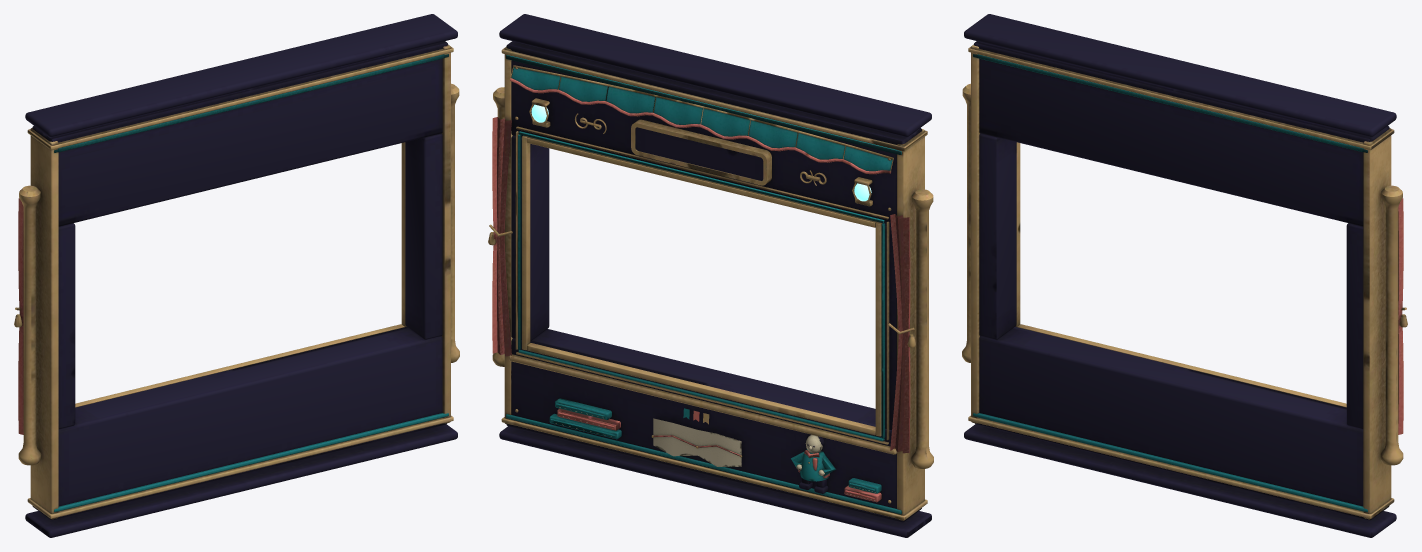
3 views of the same model, side by side, from view 1: azimuth 30°, elevation 25°; view 2: azimuth 150°, elevation 25°; view 3: azimuth 330°, elevation 25° (orthographic).
Visible parts, largest first — view 1: Violet_trunk_enamel, Touring_brass, Woven_teal, Woven_coral; view 2: Violet_trunk_enamel, Touring_brass, Woven_teal, Woven_coral, Ivory_paper_and_mannequin; view 3: Violet_trunk_enamel, Touring_brass, Woven_teal, Woven_coral.
Part boxes in pixels (x1,y1,x2,y2): Violet_trunk_enamel: (25,14,457,537); Touring_brass: (14,45,459,519); Woven_teal: (54,54,448,512); Woven_coral: (18,198,23,434); Violet_trunk_enamel: (499,14,931,537); Touring_brass: (488,47,933,520); Woven_teal: (506,55,901,514); Woven_coral: (492,78,910,502); Ivory_paper_and_mannequin: (555,407,875,500); Violet_trunk_enamel: (964,14,1396,537); Touring_brass: (962,45,1407,519); Woven_teal: (973,54,1367,512); Woven_coral: (1398,198,1403,434).
Bounding box in the file's own units: 10.32 × 9.2 × 1.33.
6 materials, 5 textured.
